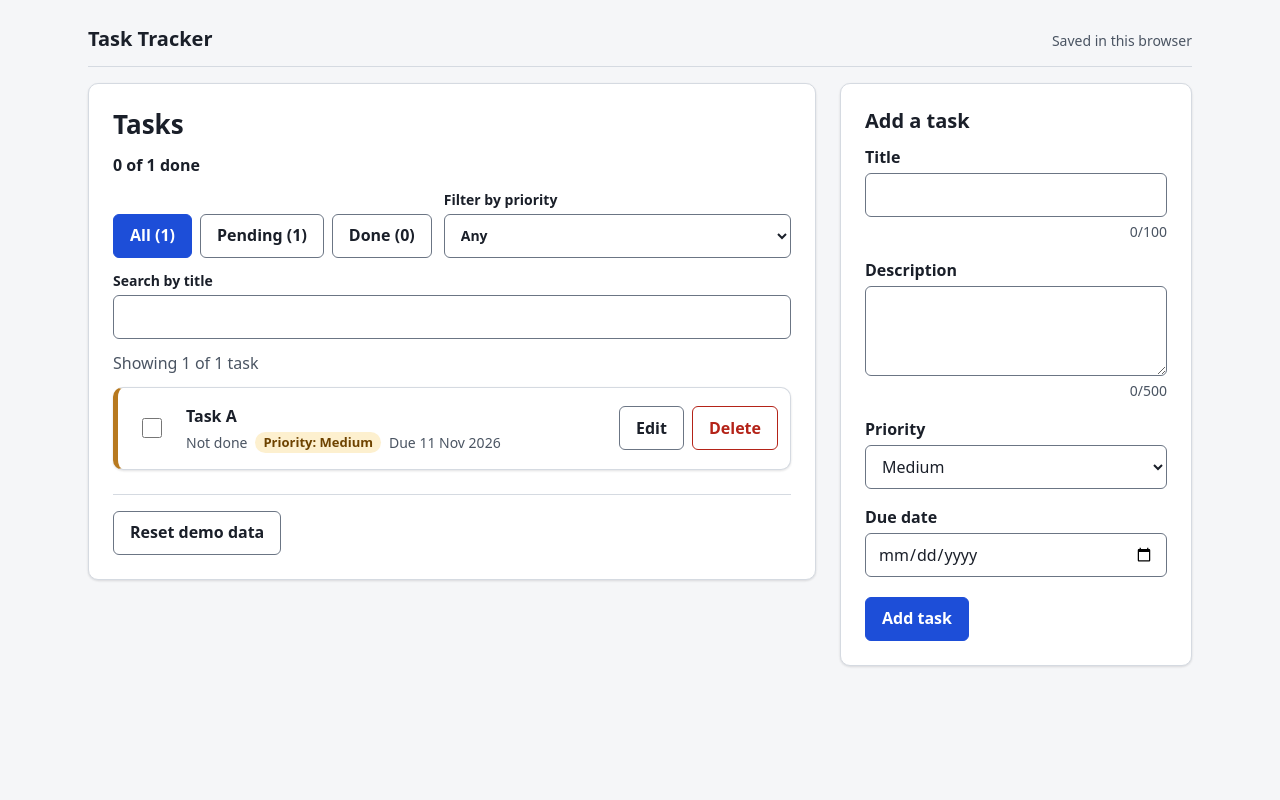
App with browser storage (VITE_DATA_SOURCE=local) › full storage: the tick stays on screen, with the can't-save message
Click the checkbox named "Mark Task A as done" at [152, 428], box x1=142 y1=418 x2=162 y2=438
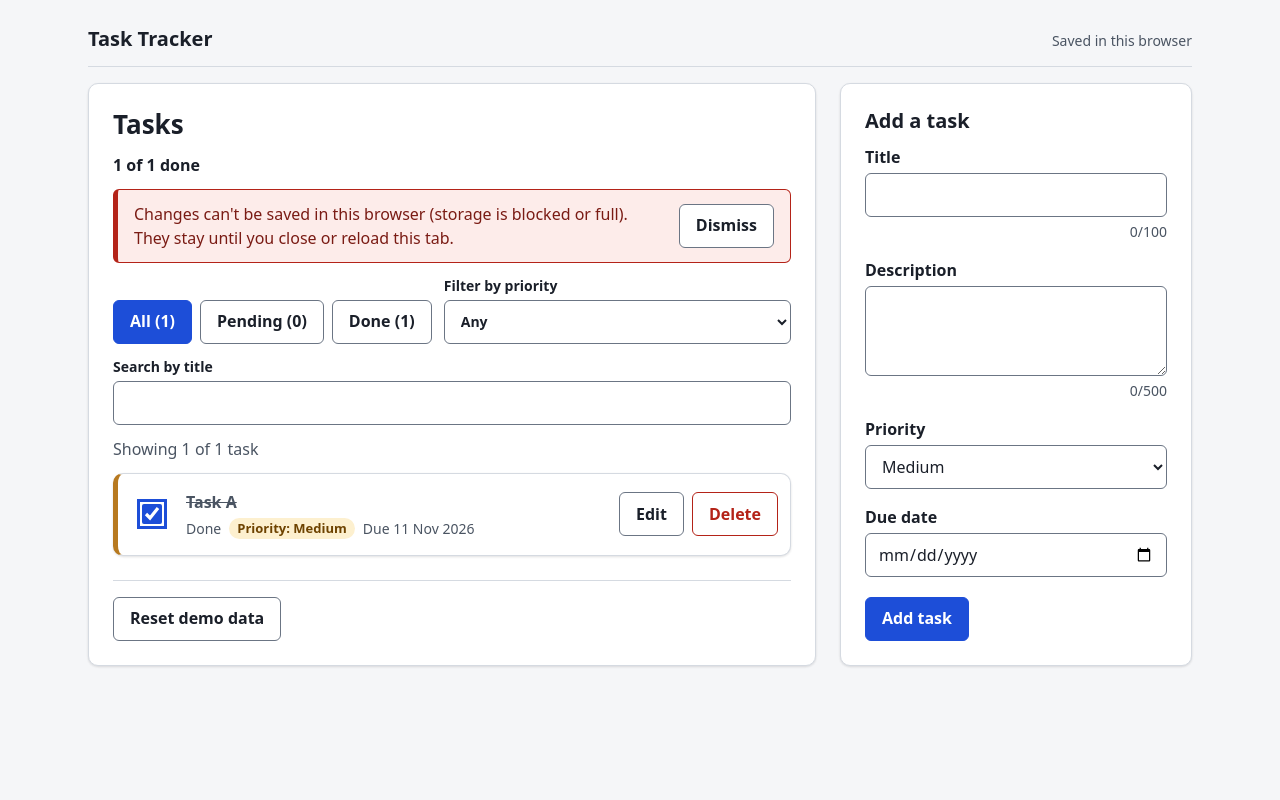
Check: the checkbox named "Mark Task A as done" is checked, box x1=142 y1=504 x2=162 y2=524
Check: the element with class "notice" shows "Changes can't be saved in this browser", box x1=134 y1=202 x2=628 y2=248
